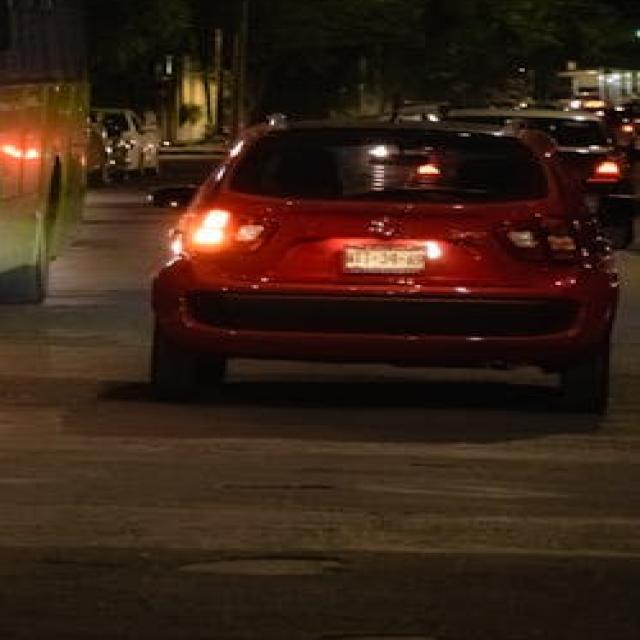bus: (0, 0, 87, 328)
car: (148, 115, 620, 412)
